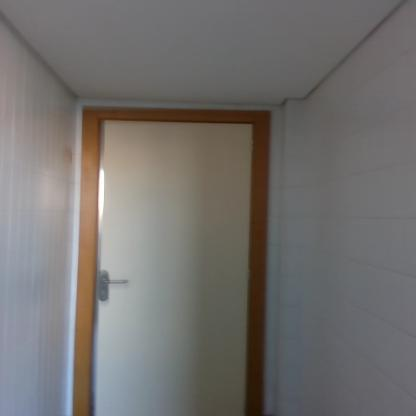door: (96, 119, 247, 415)
lever: (101, 278, 130, 286)
